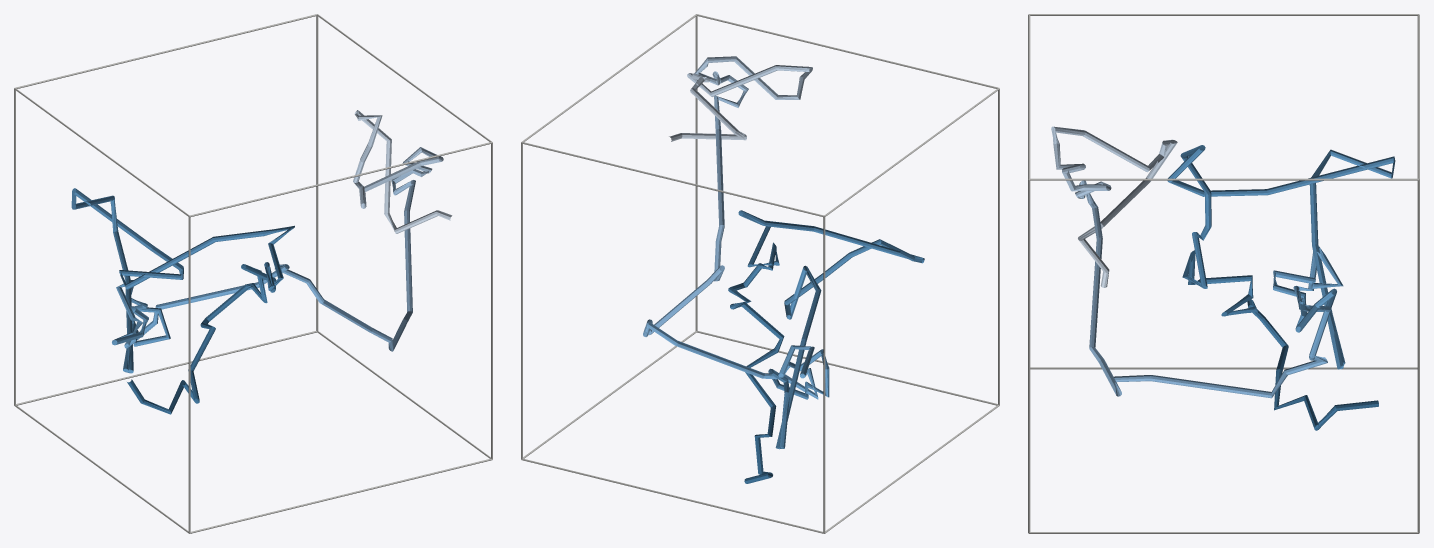
3 renders of one model, left to right at view 1: azimuth 30°, elevation 25°; view 2: azimuth 150°, elevation 25°; view 3: azimuth 270°, elevation 25°, orthographic. The views are drawn at different scales.
Parts seen in each view (by area): view 1: geometry_0, geometry_1; view 2: geometry_0, geometry_1; view 3: geometry_0, geometry_1.
Boxes of the visible parts, left/top/right/bottom form: geometry_0: left=71, top=110, right=452, bottom=414; geometry_1: left=14, top=14, right=492, bottom=533; geometry_0: left=643, top=56, right=924, bottom=483; geometry_1: left=521, top=14, right=999, bottom=533; geometry_0: left=1051, top=126, right=1395, bottom=430; geometry_1: left=1028, top=14, right=1419, bottom=533.
Size of the model in its own units: 0.3016 by 0.304 by 0.3016.
